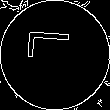L_E: (28, 38, 82, 72)
